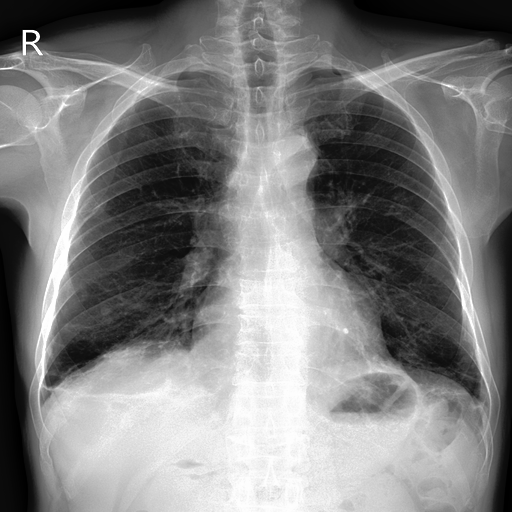Calcification: (461, 374, 494, 409)
Consolidation: (279, 135, 320, 175)
Other lesion: (39, 381, 171, 402)
Pleural effusion: (461, 374, 494, 409)
Pneumothorax: (33, 337, 184, 389), (38, 378, 177, 401), (420, 234, 456, 246)
